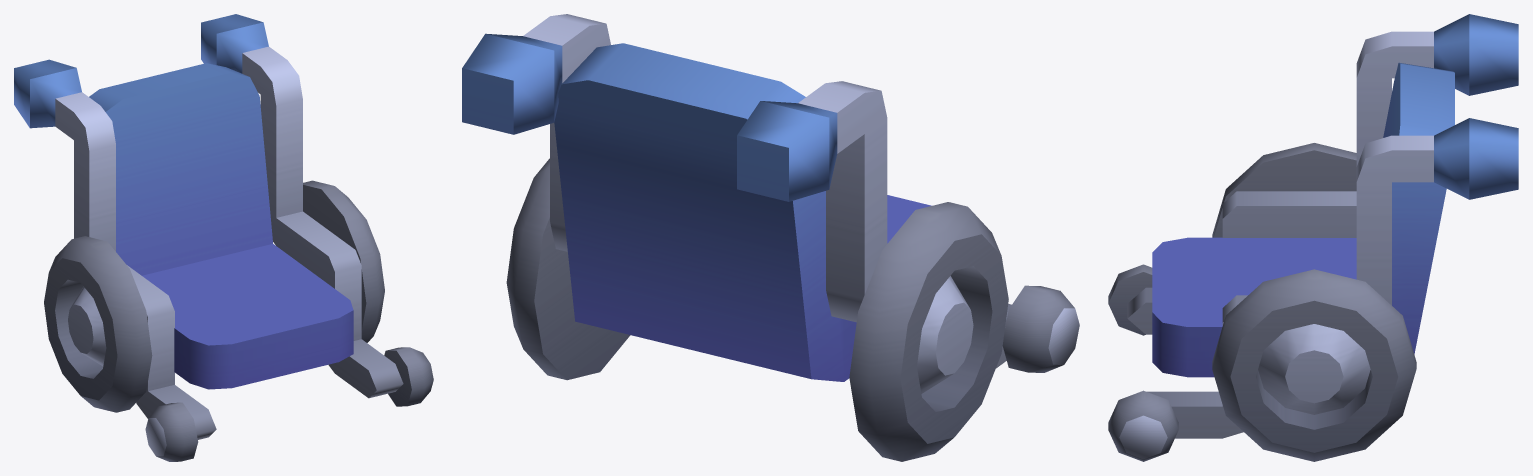
Rendered from wheelchair.fbx.
3 renders of one model, left to right at view 1: azimuth 30°, elevation 25°; view 2: azimuth 150°, elevation 25°; view 3: azimuth 270°, elevation 25°, orthographic. The views are drawn at different scales.
Parts seen in each view (by area): view 1: wheelchair; view 2: wheelchair; view 3: wheelchair.
Boxes of the visible parts, x1,y1,x2,y2 form: wheelchair: [14, 14, 433, 461]; wheelchair: [462, 14, 1079, 461]; wheelchair: [1108, 14, 1518, 461].
Bounding box in the file's own units: 50 × 49.5 × 58.24.
